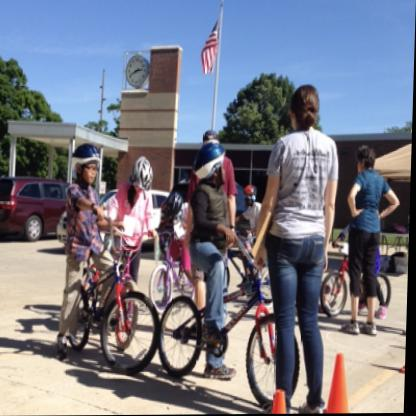With Helmet: (64, 137, 106, 195), (195, 141, 228, 187)
